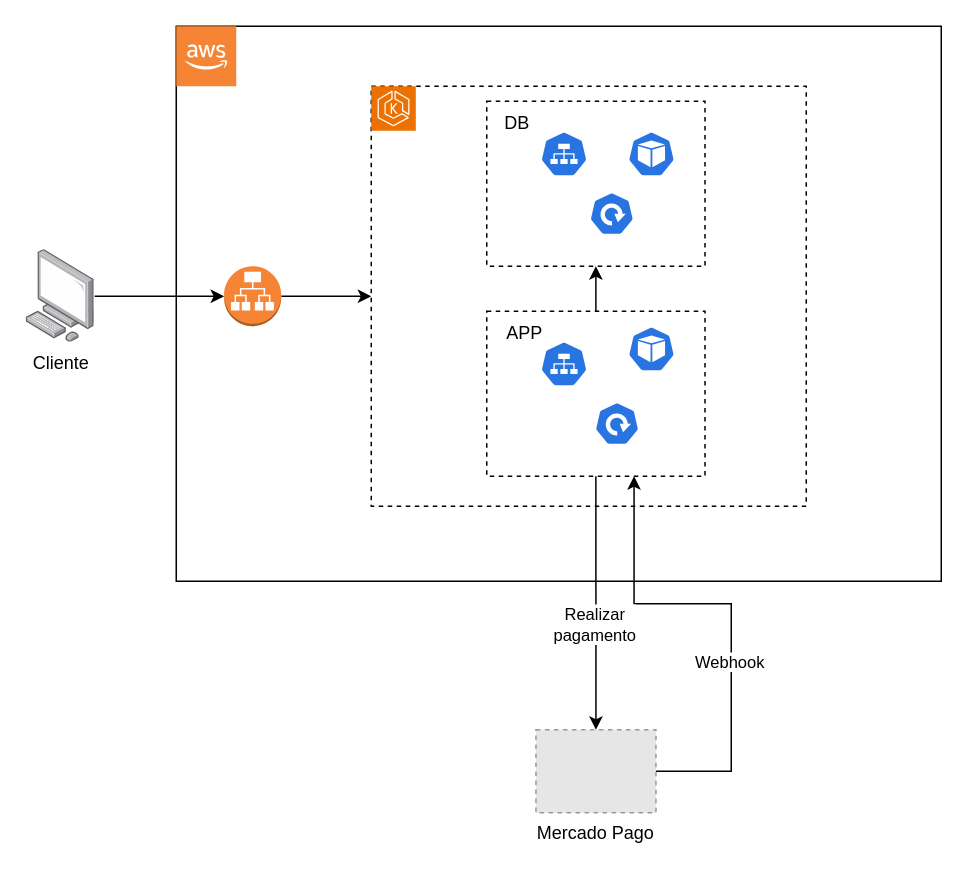
The diagram is 968 pixels wide and 870 high, and some of its shapes have lost their labels. Grey dashed boxes stand in for pictures. Each missing label, with the centre of its shape:
Application Load Balancer: the point at 252,295
EKS: the point at 393,108
